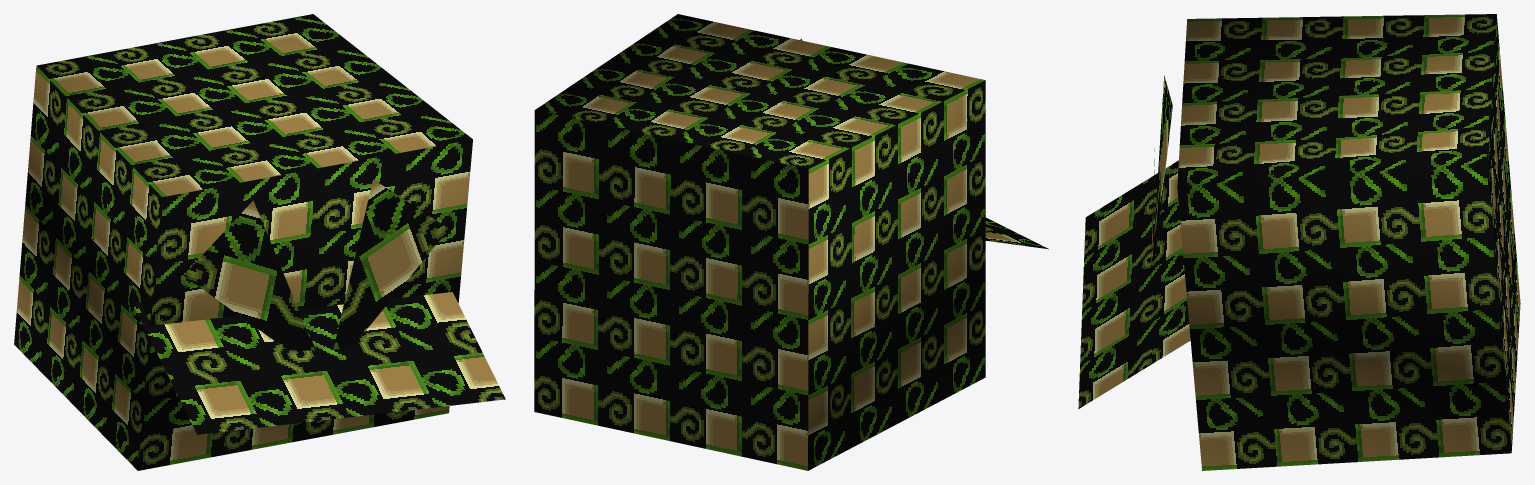
The model's file is 2744op_kagu.gltf.
3 views of the same model, side by side, from view 1: azimuth 30°, elevation 25°; view 2: azimuth 150°, elevation 25°; view 3: azimuth 270°, elevation 25° (orthographic). The views are drawn at different scales.
Parts seen in each view (by area): view 1: 2744op_kagu; view 2: 2744op_kagu; view 3: 2744op_kagu.
Part boxes in pixels (x1=…): 2744op_kagu: x1=14, y1=14, x2=505, y2=470; 2744op_kagu: x1=534, y1=14, x2=1048, y2=470; 2744op_kagu: x1=1078, y1=14, x2=1520, y2=470.
Size of the model in its own units: 0.4639 by 0.4285 by 0.5359.
1 material, 1 textured.
